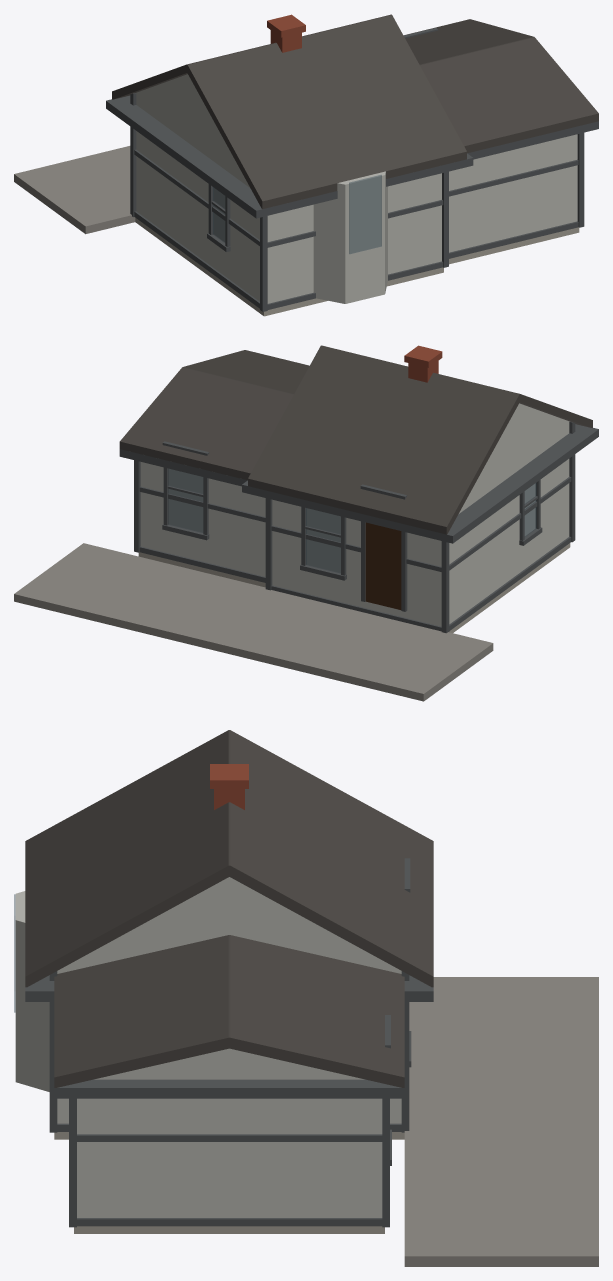
The model's file is Standard_21_Depot.glb.
3 views of the same model, one above another, from view 1: azimuth 30°, elevation 25°; view 2: azimuth 150°, elevation 25°; view 3: azimuth 270°, elevation 25° (orthographic). The views are drawn at different scales.
Parts seen in each view (by area): view 1: roof, walls, trim, platform, glass, foundation, chimney, sash; view 2: roof, platform, walls, trim, glass, sash, doors, foundation, chimney; view 3: roof, platform, walls, trim, foundation, chimney.
Boxes of the visible parts, x1,y1,x2,y2 form: roof: (112, 14, 598, 209); walls: (136, 74, 577, 303); trim: (106, 93, 598, 311); platform: (14, 146, 135, 234); glass: (213, 175, 381, 253); foundation: (135, 218, 579, 316); chimney: (267, 14, 305, 52); sash: (207, 28, 438, 252); roof: (119, 345, 592, 534); platform: (14, 543, 493, 701); walls: (140, 403, 569, 626); trim: (119, 421, 598, 633); glass: (168, 469, 536, 572); sash: (162, 441, 542, 580); doors: (365, 522, 401, 609); foundation: (138, 543, 570, 632); chimney: (404, 345, 442, 382); roof: (25, 730, 433, 1087); platform: (404, 977, 598, 1266); walls: (15, 877, 401, 1217); trim: (25, 858, 433, 1227); foundation: (54, 1132, 404, 1233); chimney: (210, 764, 248, 809).
Bounding box in the file's own units: 0.3574 × 0.1824 × 0.3162.
